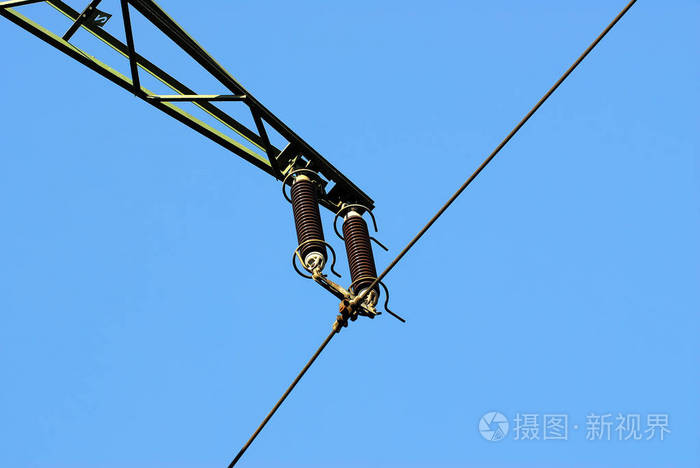insulator: (341, 219, 382, 294), (292, 181, 325, 257)
